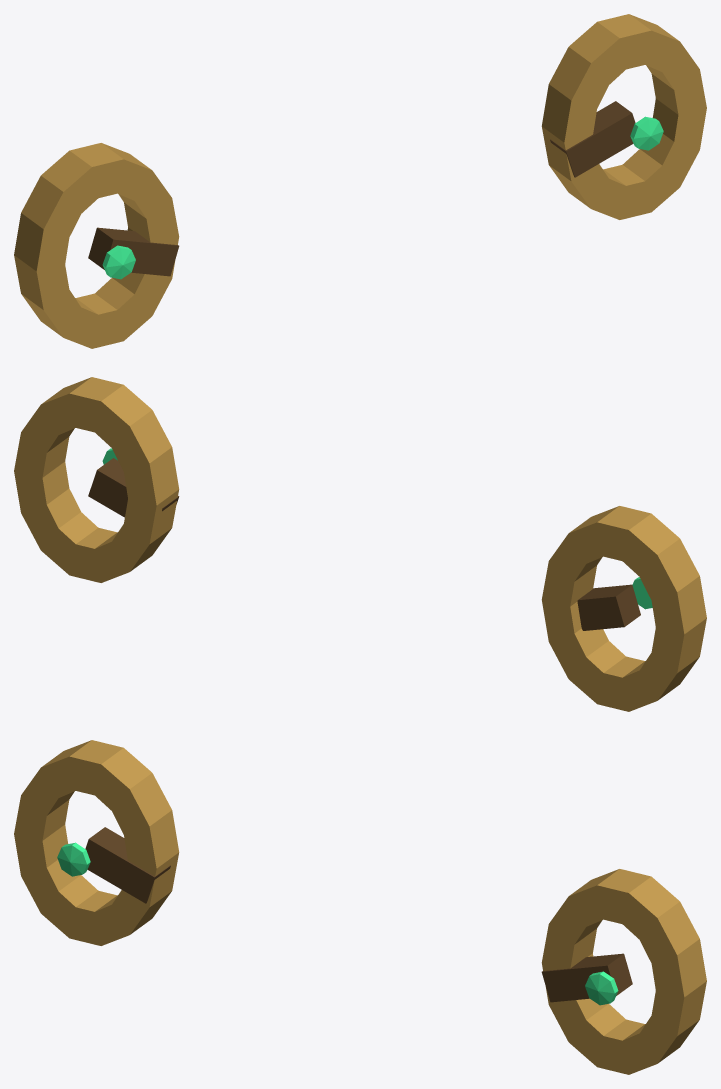
Rendered from ring_ears.obj.
3 renders of one model, top to bottom at view 1: azimuth 30°, elevation 25°; view 2: azimuth 150°, elevation 25°; view 3: azimuth 330°, elevation 25°, orthographic.
Visible parts, largest first — view 1: ring_ear_0.74, ring_ear_-0.74, ring_mount_0.74, ring_mount_-0.74, ring_mount_-0.74_edge, ring_ear_gem_-0.74, ring_ear_gem_0.74, ring_mount_0.74_edge; view 2: ring_ear_0.74, ring_ear_-0.74, ring_mount_-0.74, ring_mount_0.74, ring_mount_-0.74_edge; view 3: ring_ear_-0.74, ring_ear_0.74, ring_mount_-0.74, ring_mount_0.74, ring_mount_0.74_edge, ring_ear_gem_0.74, ring_ear_gem_-0.74, ring_mount_-0.74_edge.
Part boxes in pixels (x1=…): ring_ear_0.74: x1=541, y1=14, x2=706, y2=219; ring_ear_-0.74: x1=14, y1=143, x2=179, y2=348; ring_mount_0.74: x1=566, y1=113, x2=635, y2=177; ring_mount_-0.74: x1=110, y1=239, x2=179, y2=276; ring_mount_-0.74_edge: x1=88, y1=227, x2=178, y2=269; ring_ear_gem_-0.74: x1=102, y1=245, x2=135, y2=279; ring_ear_gem_0.74: x1=630, y1=116, x2=663, y2=150; ring_mount_0.74_edge: x1=550, y1=101, x2=631, y2=177; ring_ear_0.74: x1=14, y1=377, x2=179, y2=582; ring_ear_-0.74: x1=541, y1=506, x2=706, y2=711; ring_mount_-0.74: x1=577, y1=596, x2=624, y2=630; ring_mount_0.74: x1=88, y1=470, x2=162, y2=517; ring_mount_-0.74_edge: x1=578, y1=584, x2=640, y2=626; ring_ear_-0.74: x1=14, y1=740, x2=179, y2=945; ring_ear_0.74: x1=541, y1=869, x2=706, y2=1074; ring_mount_-0.74: x1=85, y1=839, x2=154, y2=903; ring_mount_0.74: x1=541, y1=965, x2=610, y2=1002; ring_mount_0.74_edge: x1=542, y1=953, x2=632, y2=995; ring_ear_gem_0.74: x1=585, y1=971, x2=618, y2=1005; ring_ear_gem_-0.74: x1=57, y1=842, x2=90, y2=876; ring_mount_-0.74_edge: x1=89, y1=827, x2=170, y2=903.
Size of the model in its own units: 1.88 by 0.4875 by 0.1831.
